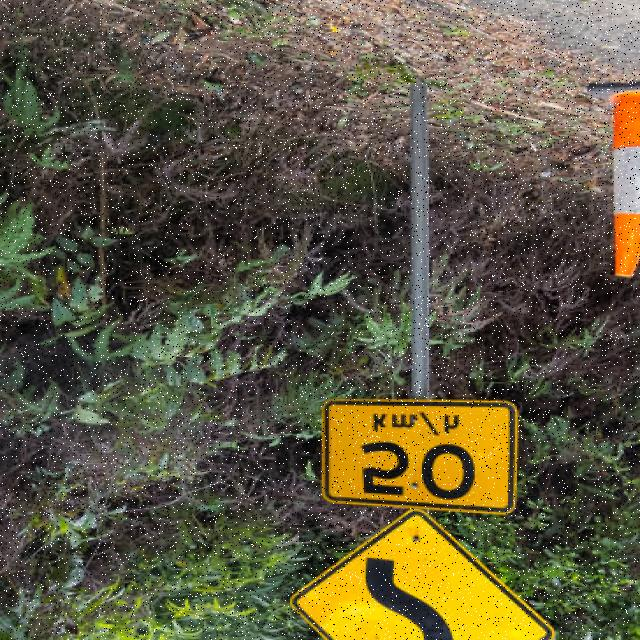left_sharp_curve: (266, 501, 548, 640)
